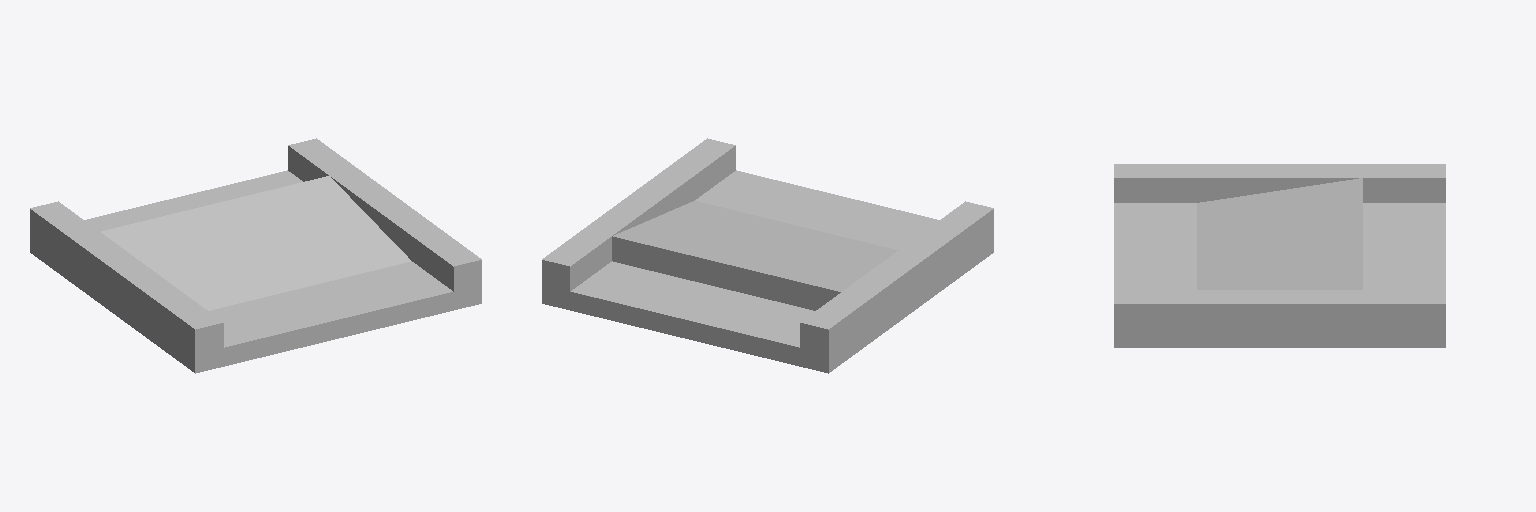
The model's file is Ramp_sharp_01.obj.
3 renders of one model, left to right at view 1: azimuth 30°, elevation 25°; view 2: azimuth 150°, elevation 25°; view 3: azimuth 270°, elevation 25°, orthographic.
Visible parts, largest first — view 1: Mesh1 Ramp_sharp Model; view 2: Mesh1 Ramp_sharp Model; view 3: Mesh1 Ramp_sharp Model.
Part boxes in pixels (x1,y1,x2,y2): Mesh1 Ramp_sharp Model: (30, 138, 481, 373); Mesh1 Ramp_sharp Model: (542, 138, 993, 373); Mesh1 Ramp_sharp Model: (1114, 164, 1445, 347).
Size of the model in its own units: 3 by 0.44 by 3.